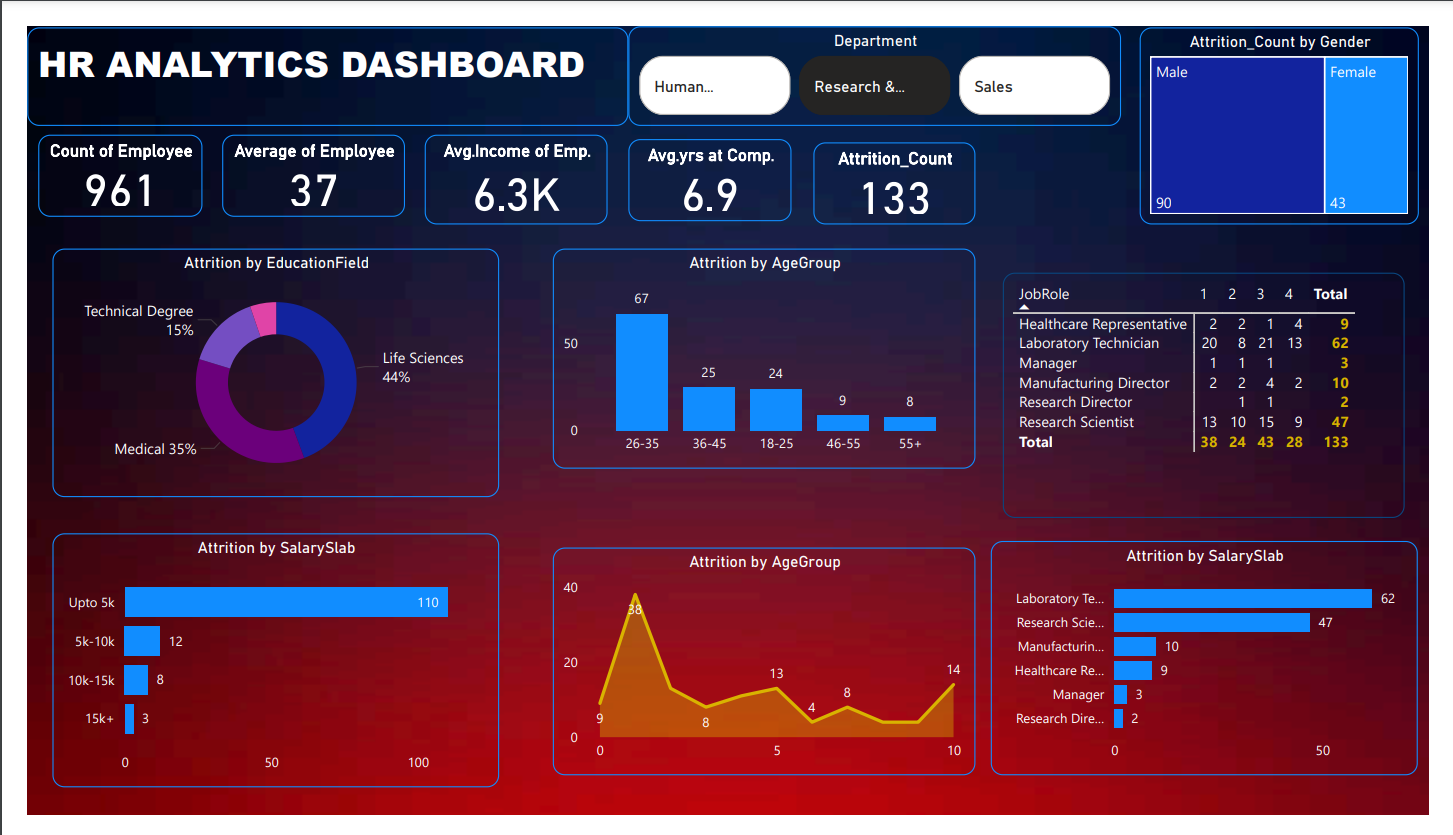

This screenshot's page, from the dashboard's own definition file:
{"tool":"powerbi","page":{"name":"Page 1","canvas":[1280,720],"ordinal":0},"visuals":[{"type":"card","title":"Count of Employee","fields":{"Values":["CountNonNull(HR_Analytics (1).EmpID)"]},"box":[10,98.8,150,75],"z":0},{"type":"card","title":"Average of Employee","fields":{"Values":["Avg(HR_Analytics (1).Age)"]},"box":[177.5,98.8,167.5,75],"z":1},{"type":"card","title":"Avg.Income of Emp.","fields":{"Values":["Avg(HR_Analytics (1).MonthlyIncome)"]},"box":[362.5,98.8,167.5,82.5],"z":2},{"type":"card","title":"Avg.yrs at Comp.","fields":{"Values":["Avg(HR_Analytics (1).YearsAtCompany)"]},"box":[548.8,102.5,148.8,75],"z":3},{"type":"donutChart","title":"Attrition  by EducationField","fields":{"Category":["HR_Analytics (1).EducationField"],"Y":["CountNonNull(HR_Analytics (1).Attrition_Count)"]},"box":[22.5,202.5,408.8,227.5],"z":4},{"type":"card","title":"Attrition_Count","fields":{"Values":["CountNonNull(HR_Analytics (1).Attrition_Count)"]},"box":[717.5,106.2,148.8,75],"z":5},{"type":"columnChart","title":" Attrition by AgeGroup","fields":{"Category":["HR_Analytics (1).AgeGroup"],"Y":["CountNonNull(HR_Analytics (1).Attrition_Count)"]},"box":[480,202.5,386.2,201.2],"z":6},{"type":"pivotTable","fields":{"Rows":["HR_Analytics (1).JobRole"],"Columns":["HR_Analytics (1).JobSatisfaction"],"Values":["CountNonNull(HR_Analytics (1).Attrition_Count)"]},"box":[891.2,225,366.2,223.8],"z":7},{"type":"barChart","title":" Attrition by SalarySlab","fields":{"Category":["HR_Analytics (1).SalarySlab"],"Y":["CountNonNull(HR_Analytics (1).Attrition_Count)"]},"box":[22.5,462.5,408.8,232.5],"z":8},{"type":"barChart","title":" Attrition by SalarySlab","fields":{"Y":["CountNonNull(HR_Analytics (1).Attrition_Count)"],"Category":["HR_Analytics (1).JobRole"]},"box":[880,470,390,213.8],"z":9},{"type":"areaChart","title":" Attrition by AgeGroup","fields":{"Category":["HR_Analytics (1).YearsAtCompany"],"Y":["CountNonNull(HR_Analytics (1).Attrition_Count)"]},"box":[480,476.2,386.2,207.5],"z":10},{"type":"treemap","title":" Attrition_Count by Gender","fields":{"Group":["HR_Analytics (1).Gender"],"Values":["CountNonNull(HR_Analytics (1).Attrition_Count)"]},"box":[1016.2,1.2,255,180],"z":11},{"type":"advancedSlicerVisual","fields":{"Values":["HR_Analytics (1).Department"]},"box":[548.8,0,450,91.2],"z":12},{"type":"textbox","box":[0,1.2,548.8,90],"z":13}]}

Visuals, with their boxes in screenshot pixels (x1, y1, x2, y2), scaled from the page's 1280x720 canvas onto the 1453x835 screenshot:
"Count of Employee" card: {"left": 11, "top": 115, "right": 182, "bottom": 202}
"Average of Employee" card: {"left": 201, "top": 115, "right": 392, "bottom": 202}
"Avg.Income of Emp." card: {"left": 411, "top": 115, "right": 602, "bottom": 210}
"Avg.yrs at Comp." card: {"left": 623, "top": 119, "right": 792, "bottom": 206}
"Attrition  by EducationField" donutChart: {"left": 26, "top": 235, "right": 490, "bottom": 499}
"Attrition_Count" card: {"left": 814, "top": 123, "right": 983, "bottom": 210}
" Attrition by AgeGroup" columnChart: {"left": 545, "top": 235, "right": 983, "bottom": 468}
pivotTable - HR_Analytics (1).JobRole x HR_Analytics (1).JobSatisfaction: {"left": 1012, "top": 261, "right": 1427, "bottom": 520}
" Attrition by SalarySlab" barChart: {"left": 26, "top": 536, "right": 490, "bottom": 806}
" Attrition by SalarySlab" barChart: {"left": 999, "top": 545, "right": 1442, "bottom": 793}
" Attrition by AgeGroup" areaChart: {"left": 545, "top": 552, "right": 983, "bottom": 793}
" Attrition_Count by Gender" treemap: {"left": 1154, "top": 1, "right": 1443, "bottom": 210}
advancedSlicerVisual - HR_Analytics (1).Department: {"left": 623, "top": 0, "right": 1134, "bottom": 106}
textbox: {"left": 0, "top": 1, "right": 623, "bottom": 106}
